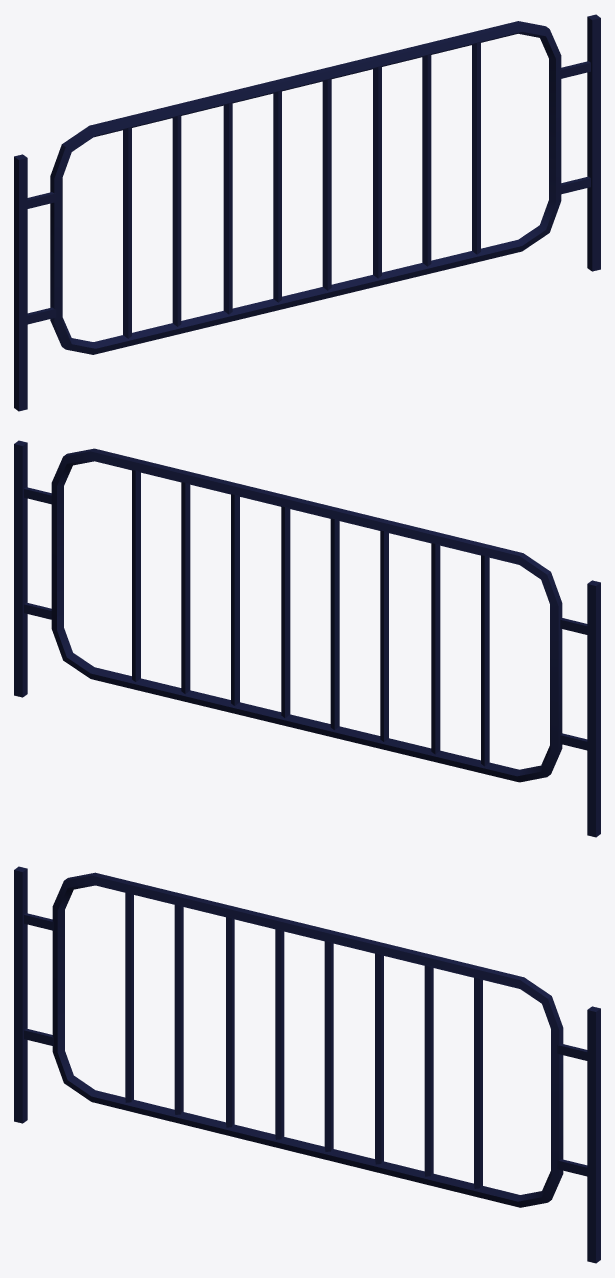
File: SM_fence_03.fbx
3 renders of one model, top to bottom at view 1: azimuth 30°, elevation 25°; view 2: azimuth 150°, elevation 25°; view 3: azimuth 330°, elevation 25°, orthographic.
Visible parts, largest first — view 1: Line016; view 2: Line016; view 3: Line016.
Part boxes in pixels (bbox=[...]): Line016: bbox=[14, 14, 600, 411]; Line016: bbox=[14, 440, 600, 837]; Line016: bbox=[14, 866, 600, 1263].
Bounding box in the file's own units: 92.12 × 39.82 × 1.82.
